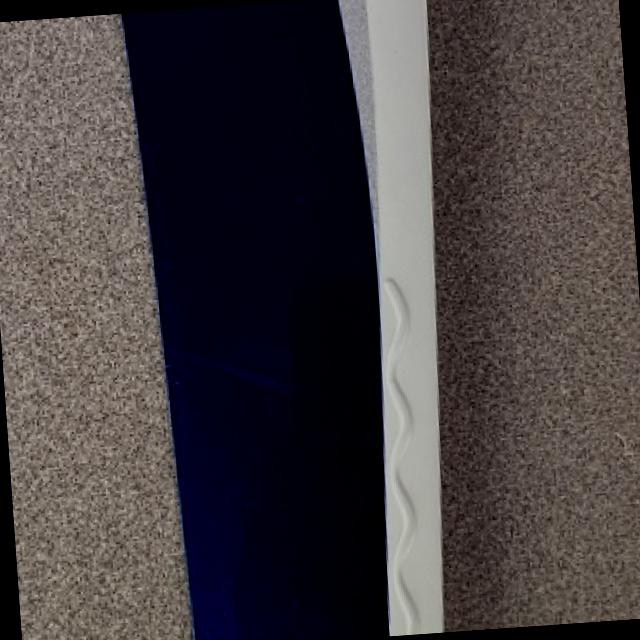healthy: (123, 0, 438, 640)
